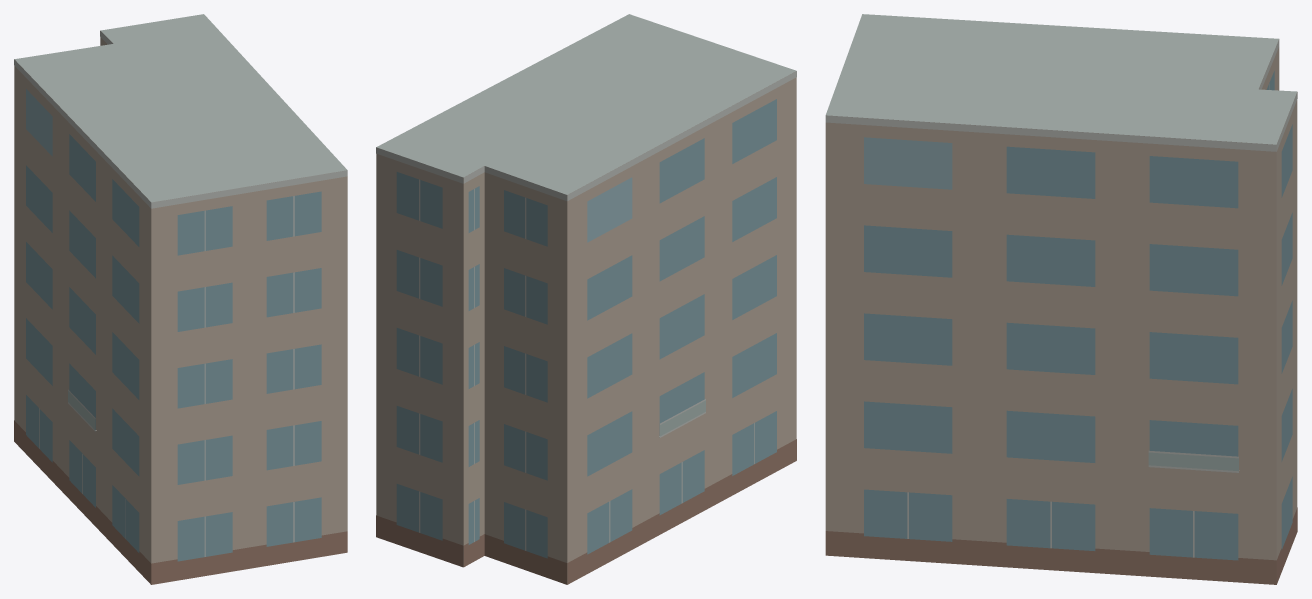
The model's file is survey-upis-32941133.glb.
3 renders of one model, left to right at view 1: azimuth 30°, elevation 25°; view 2: azimuth 150°, elevation 25°; view 3: azimuth 270°, elevation 25°, orthographic. The views are drawn at different scales.
Visible parts, largest first — view 1: survey-upis-32941133.tmp; view 2: survey-upis-32941133.tmp; view 3: survey-upis-32941133.tmp.
Part boxes in pixels (x1,y1,x2,y2): survey-upis-32941133.tmp: (14,14,347,584); survey-upis-32941133.tmp: (376,14,796,584); survey-upis-32941133.tmp: (825,14,1297,584).
Bounding box in the file's own units: 9.56 × 15 × 14.58.
